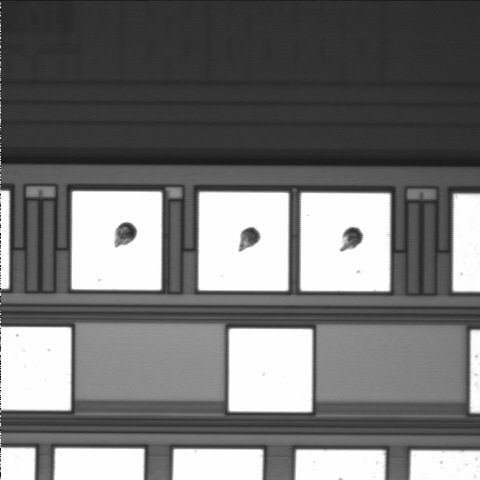pad: (72, 191, 162, 290), (199, 192, 289, 291), (300, 193, 390, 291), (229, 329, 312, 412)
